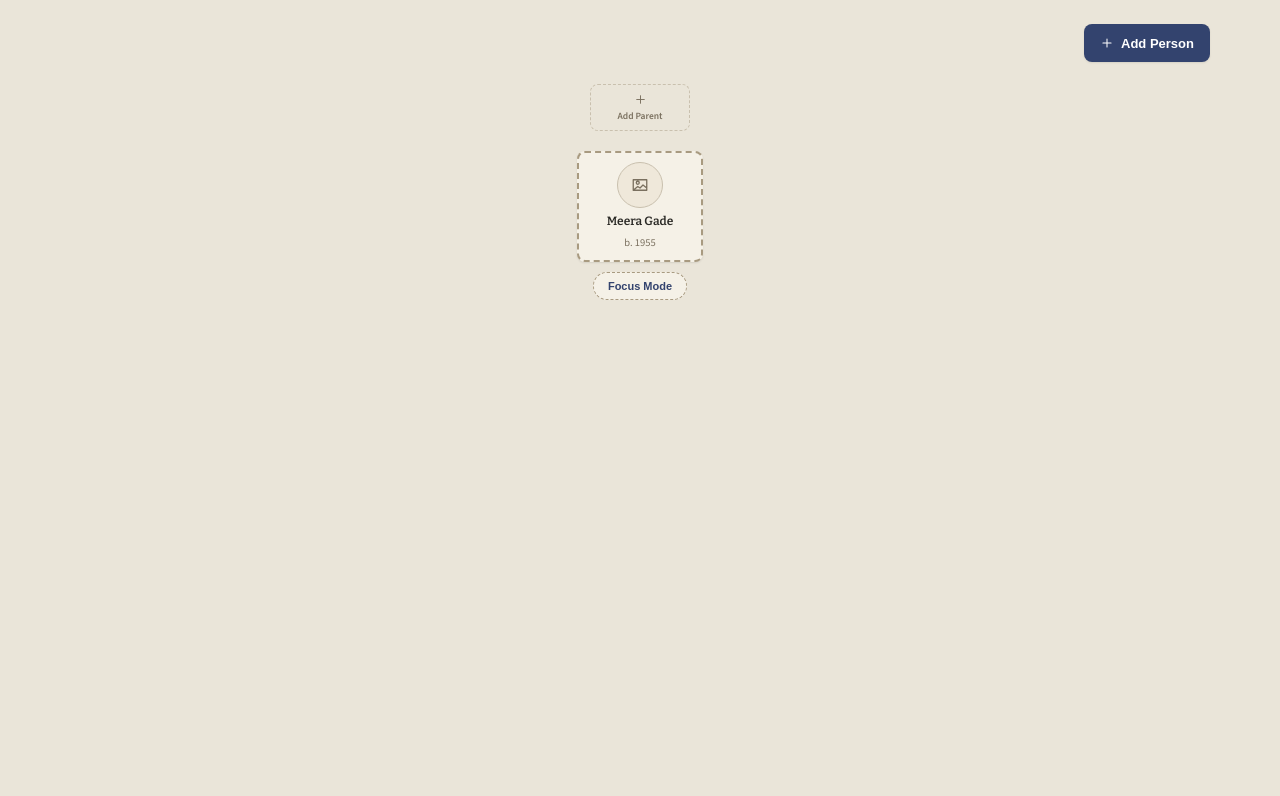
Test: an incorrect-passphrase write failure clears the stored passphrase and reopens the gate
Click the text "Meera Gade": click(640, 222) [607,214,673,229]
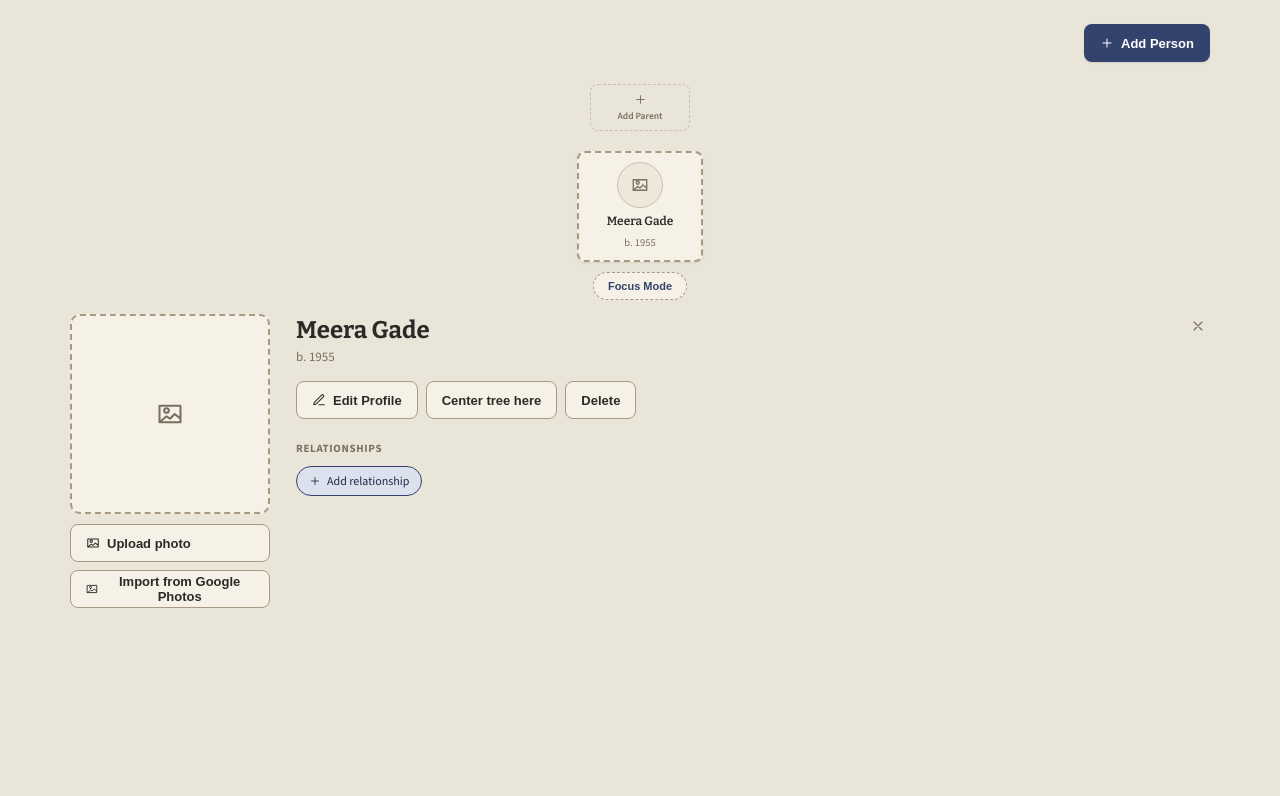
Expected: the button "Edit Profile" is shown
Click the button "Edit Profile": click(357, 400) [296,381,418,419]
(page scrolled)
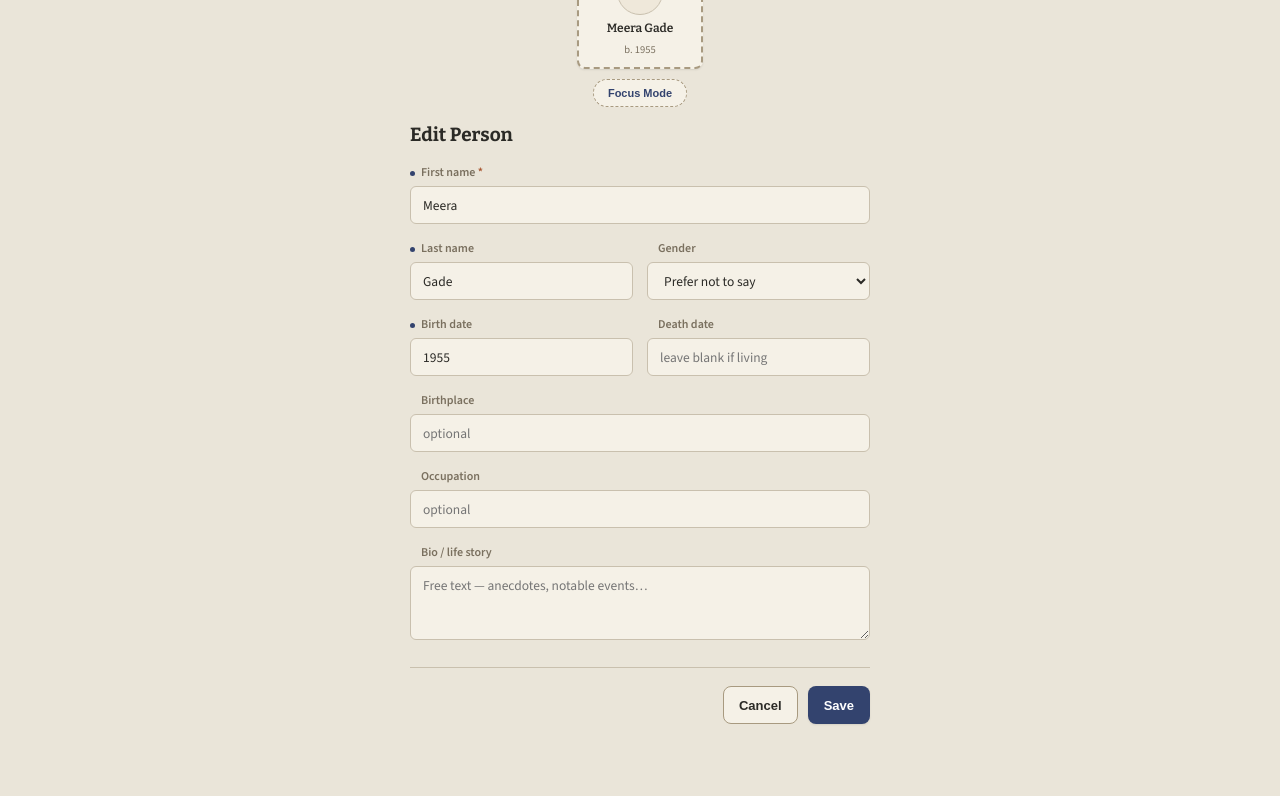
Expected: the text "Edit Person" is shown, [410,123,513,146]
Click the button "Save": click(839, 705) [808,686,870,724]
(page scrolled)
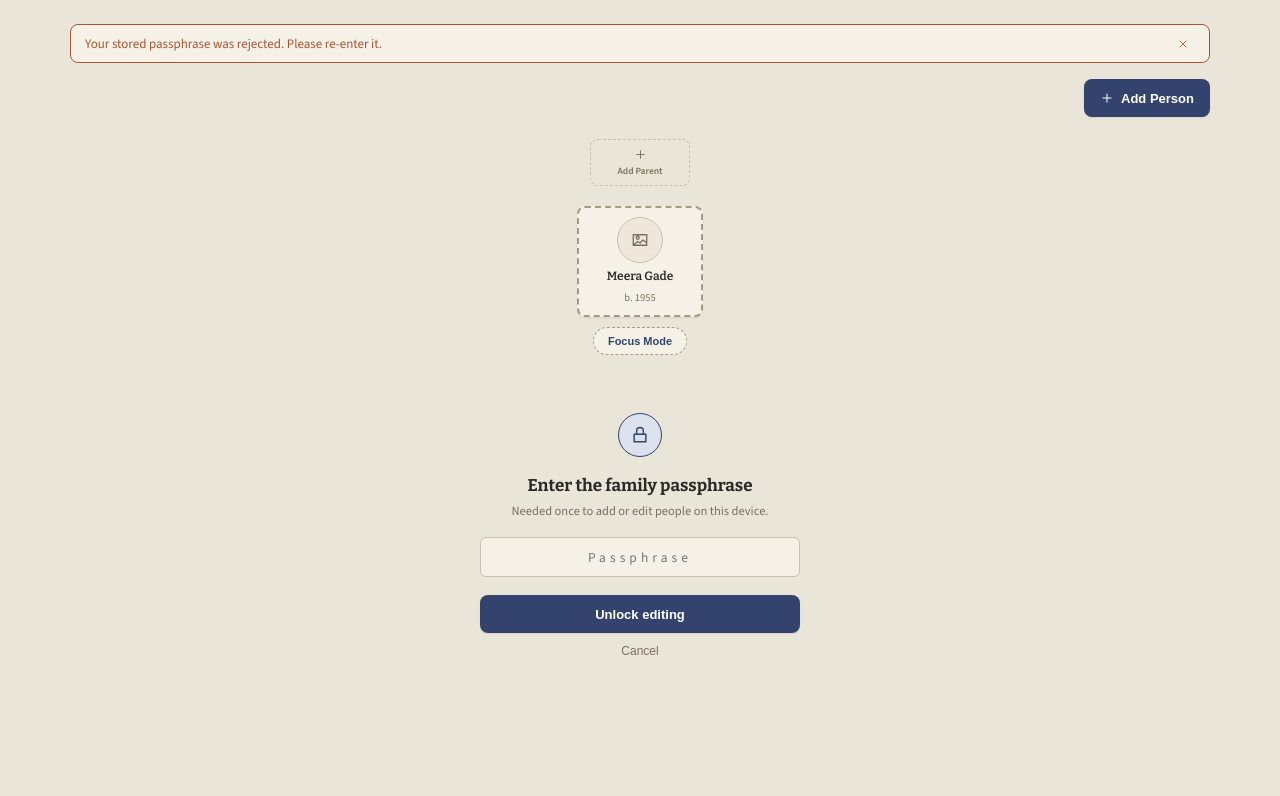
Expected: the text "Enter the family passphrase" is shown, [527,475,752,496]
